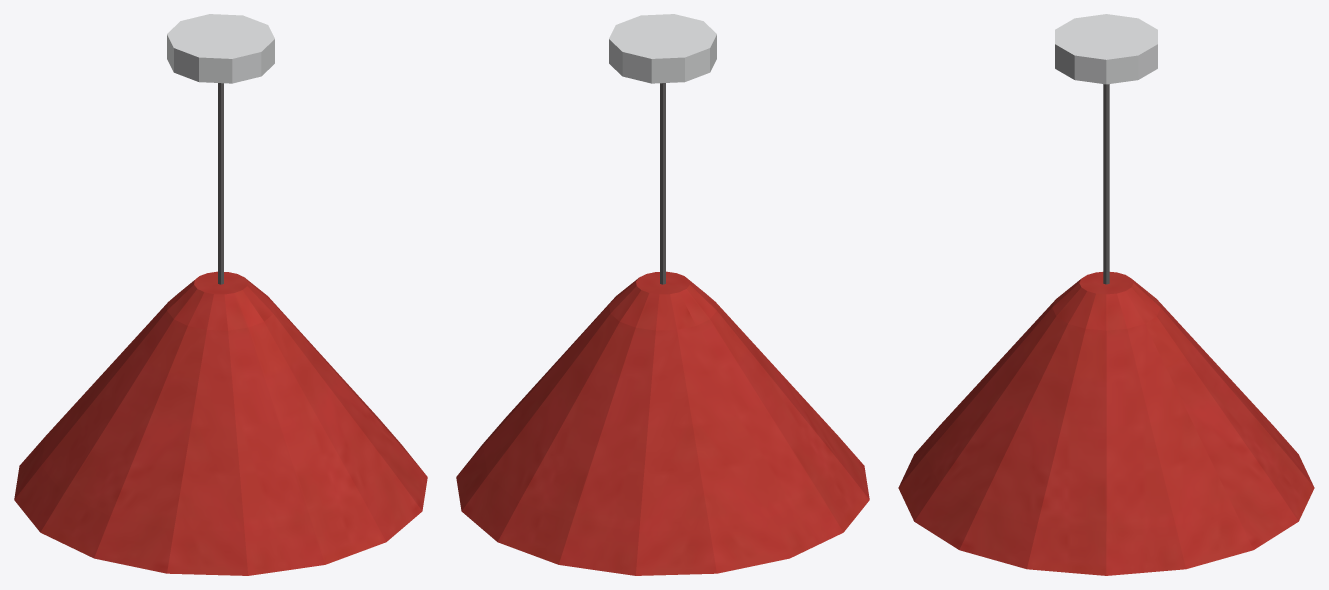
The model's file is pendant_s.glb.
3 renders of one model, left to right at view 1: azimuth 30°, elevation 25°; view 2: azimuth 150°, elevation 25°; view 3: azimuth 270°, elevation 25°, orthographic.
Visible parts, largest first — view 1: pendant_s_red, pendant_s_steel, pendant_s_dark; view 2: pendant_s_red, pendant_s_steel, pendant_s_dark; view 3: pendant_s_red, pendant_s_steel, pendant_s_dark.
Part boxes in pixels (left/top/right/bottom): pendant_s_red: left=14, top=271, right=427, bottom=575; pendant_s_steel: left=167, top=14, right=274, bottom=83; pendant_s_dark: left=218, top=83, right=223, bottom=284; pendant_s_red: left=456, top=271, right=869, bottom=575; pendant_s_steel: left=609, top=14, right=716, bottom=83; pendant_s_dark: left=660, top=83, right=665, bottom=284; pendant_s_red: left=898, top=272, right=1314, bottom=575; pendant_s_steel: left=1055, top=14, right=1157, bottom=84; pendant_s_dark: left=1103, top=84, right=1109, bottom=284.
Size of the model in its own units: 0.46 by 0.57 by 0.46.
Materials: 4 (1 with a texture image).
